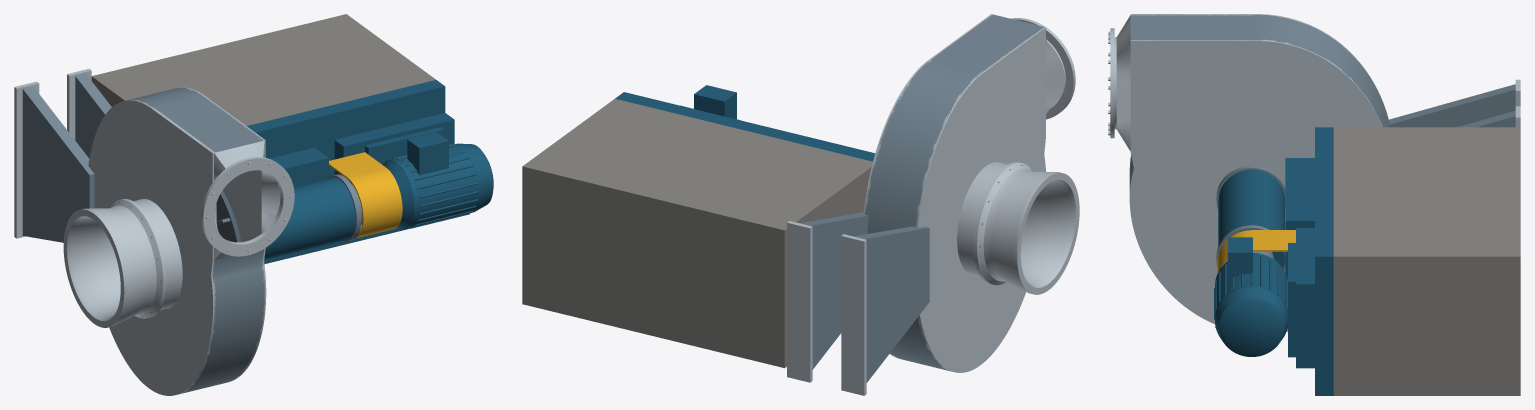
The picture shows the model from 3 angles, left to right: view 1: azimuth 30°, elevation 25°; view 2: azimuth 150°, elevation 25°; view 3: azimuth 270°, elevation 25°; orthographic projection. The views are drawn at different scales.
Parts seen in each view (by area): view 1: 本体_进风侧蜗壳板, 传动底座_主座, 接口_中空喇叭口及进风法兰, 本体_蜗壳围板, 蜗壳支架_支脚, 传动底座_安装板, 接口_上出风圆法兰及过渡管, 驱动_电机外壳, 驱动_轴承座壳体, 护罩_联轴器拱形罩, 本体_传动侧蜗壳板, 蜗壳支架_脚底板 (+6 smaller); view 2: 传动底座_主座, 本体_进风侧蜗壳板, 本体_蜗壳围板, 接口_中空喇叭口及进风法兰, 蜗壳支架_支脚, 蜗壳支架_脚底板, 传动底座_安装板, 接口_上出风圆法兰及过渡管, 驱动_电机接线盒, 本体_传动侧蜗壳板; view 3: 传动底座_主座, 本体_传动侧蜗壳板, 本体_蜗壳围板, 驱动_电机外壳, 传动底座_安装板, 驱动_轴承座壳体, 蜗壳支架_支脚, 传动底座_电机抬高座, 接口_上出风圆法兰及过渡管, 传动底座_轴承座底脚, 护罩_联轴器拱形罩, 驱动_电机接线盒 (+3 smaller).
Boxes of the visible parts, x1=… form: 本体_进风侧蜗壳板: x1=88, y1=99, x2=215, y2=395; 传动底座_主座: x1=91, y1=14, x2=435, y2=125; 接口_中空喇叭口及进风法兰: x1=63, y1=199, x2=182, y2=327; 本体_蜗壳围板: x1=129, y1=87, x2=264, y2=393; 蜗壳支架_支脚: x1=22, y1=73, x2=111, y2=242; 传动底座_安装板: x1=246, y1=80, x2=445, y2=264; 接口_上出风圆法兰及过渡管: x1=201, y1=141, x2=294, y2=259; 驱动_电机外壳: x1=383, y1=143, x2=493, y2=229; 驱动_轴承座壳体: x1=264, y1=177, x2=355, y2=259; 护罩_联轴器拱形罩: x1=329, y1=152, x2=402, y2=238; 本体_传动侧蜗壳板: x1=178, y1=87, x2=266, y2=382; 蜗壳支架_脚底板: x1=14, y1=68, x2=91, y2=238; 传动底座_主座: x1=522, y1=99, x2=872, y2=368; 本体_进风侧蜗壳板: x1=915, y1=27, x2=1045, y2=372; 本体_蜗壳围板: x1=865, y1=14, x2=1043, y2=371; 接口_中空喇叭口及进风法兰: x1=957, y1=162, x2=1079, y2=294; 蜗壳支架_支脚: x1=800, y1=212, x2=929, y2=382; 蜗壳支架_脚底板: x1=787, y1=221, x2=866, y2=395; 传动底座_安装板: x1=615, y1=92, x2=875, y2=161; 接口_上出风圆法兰及过渡管: x1=1011, y1=18, x2=1075, y2=119; 驱动_电机接线盒: x1=694, y1=85, x2=736, y2=119; 本体_传动侧蜗壳板: x1=863, y1=14, x2=992, y2=358; 传动底座_主座: x1=1333, y1=127, x2=1520, y2=395; 本体_传动侧蜗壳板: x1=1129, y1=39, x2=1382, y2=331; 本体_蜗壳围板: x1=1129, y1=14, x2=1389, y2=192; 驱动_电机外壳: x1=1215, y1=252, x2=1288, y2=356; 传动底座_安装板: x1=1315, y1=127, x2=1333, y2=395; 驱动_轴承座壳体: x1=1218, y1=170, x2=1284, y2=268; 蜗壳支架_支脚: x1=1389, y1=84, x2=1515, y2=127; 传动底座_电机抬高座: x1=1296, y1=228, x2=1314, y2=368; 接口_上出风圆法兰及过渡管: x1=1110, y1=15, x2=1130, y2=151; 传动底座_轴承座底脚: x1=1285, y1=158, x2=1314, y2=279; 护罩_联轴器拱形罩: x1=1217, y1=230, x2=1295, y2=272; 驱动_电机接线盒: x1=1227, y1=237, x2=1252, y2=280.
Size of the model in its own units: 2.75 by 1.92 by 2.44.
